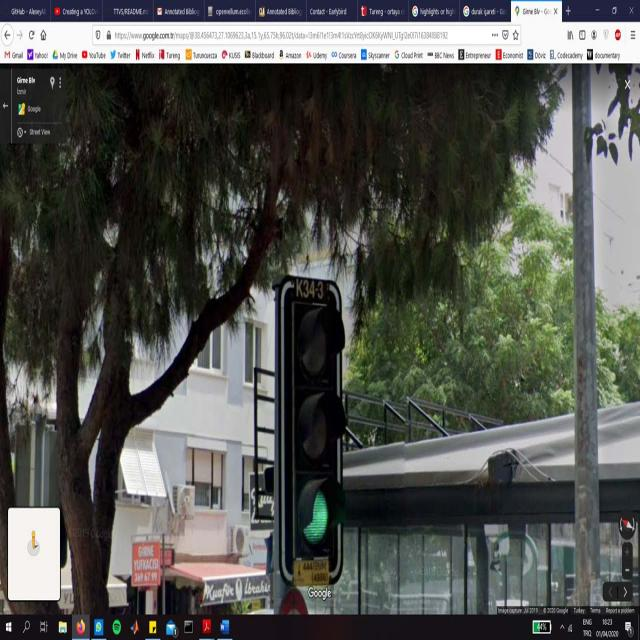yesil: (284, 278, 344, 574)
